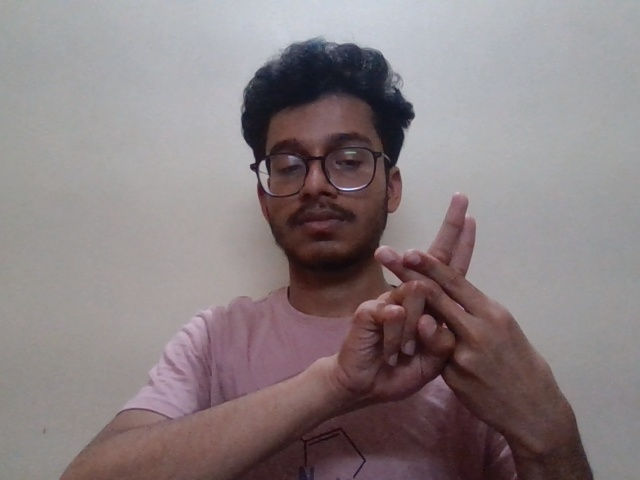disabled: (330, 187, 587, 453)
